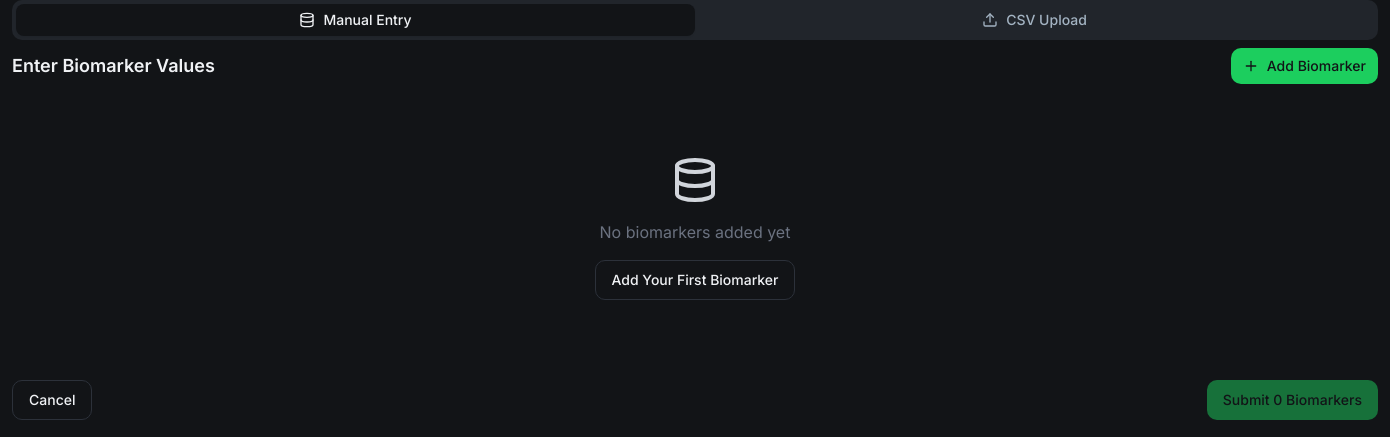
it: BiomarkerForm › allows adding biomarkers
The image size is (1390, 437).
What coordinates should you click on to do the following:
click the button "Add Biomarker"
I would click on:
 (1304, 66)
Its box is [1231,48,1378,84].
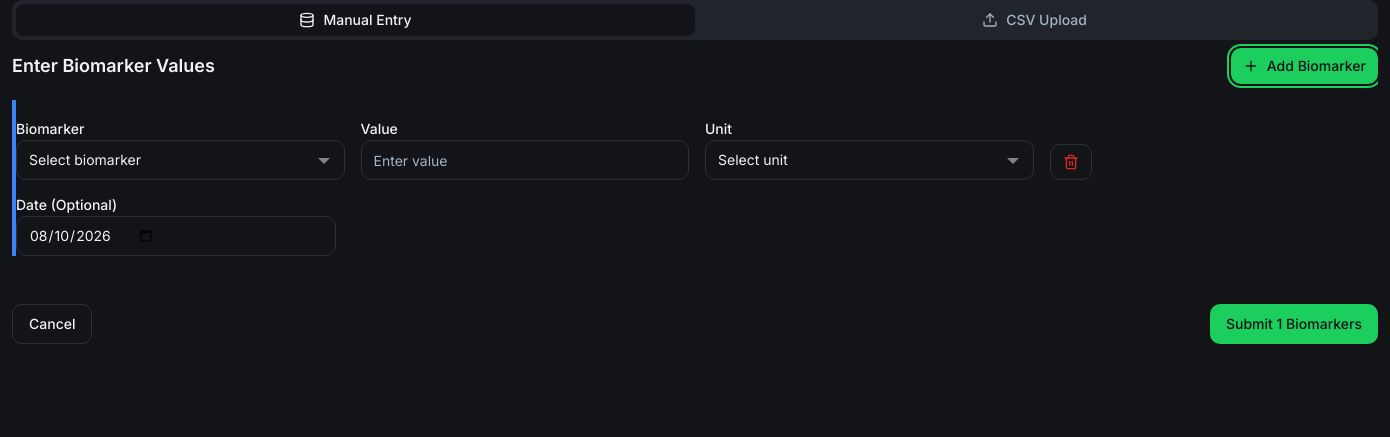
Check: the text "Biomarker" is shown, box [16,120,84,137]
Check: the text "Value" is shown, box [360,120,398,137]
Check: the text "Unit" is shown, box [705,120,732,137]
